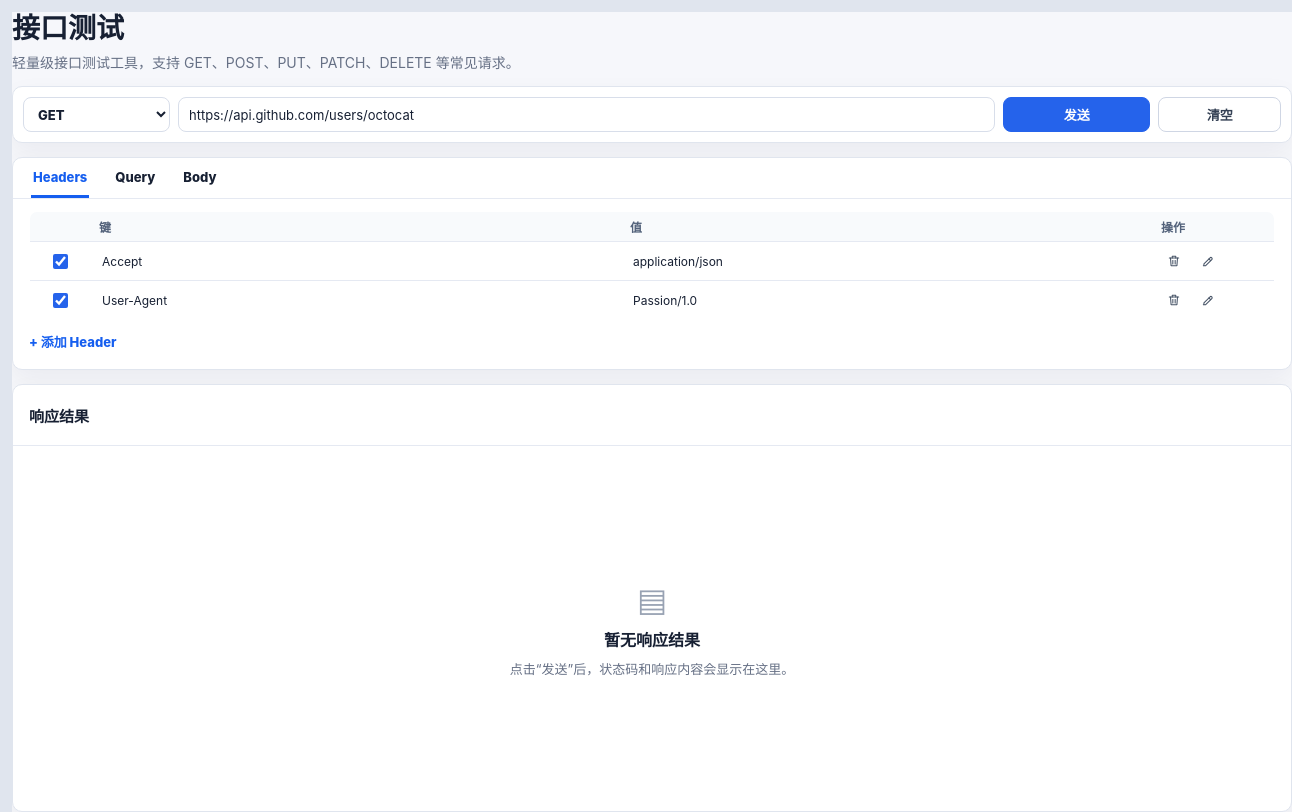
sends a request and shows response metadata
Click the button "发送".
click(1077, 115)  # box [1003,97,1150,132]
(page scrolled)
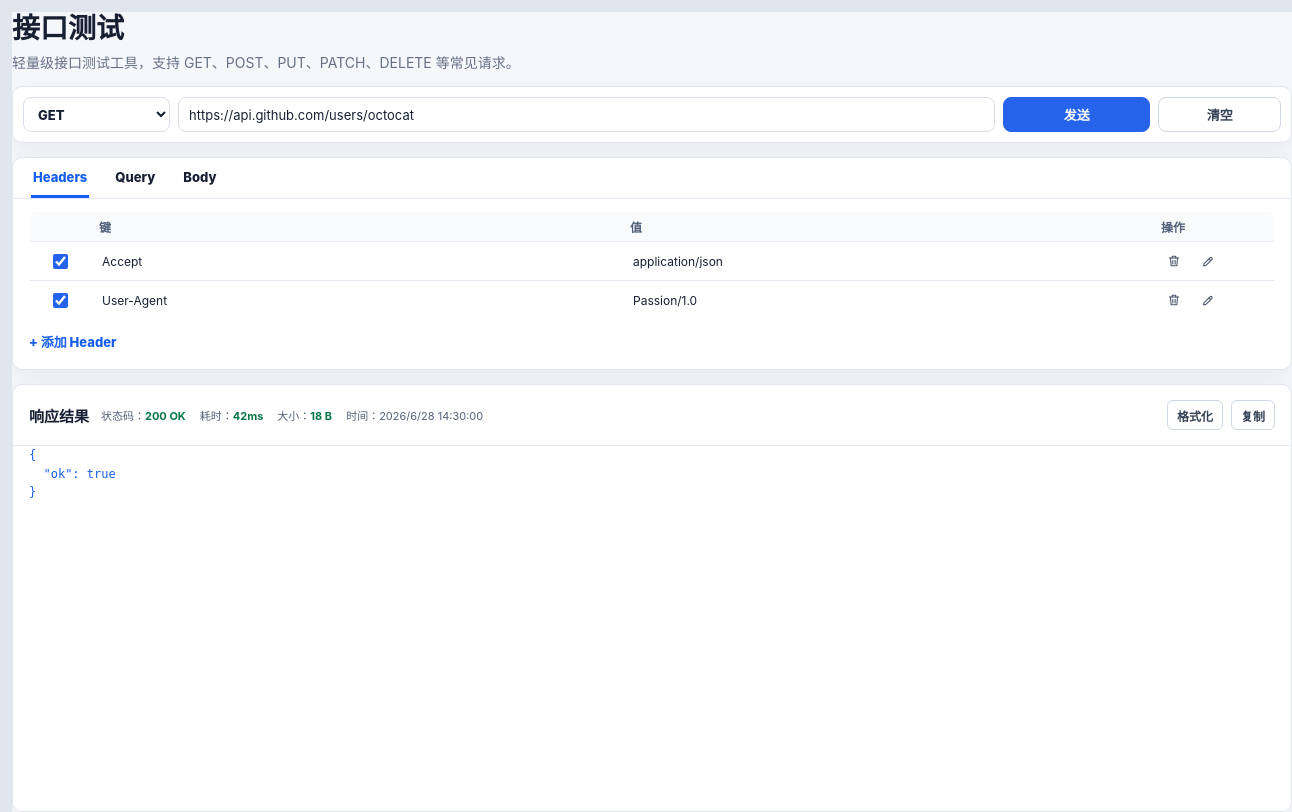
Now the text "200 OK" is shown, box [145,409,186,423]
Now the text "42ms" is shown, box [233,409,263,423]
Now the text "18 B" is shown, box [310,409,332,423]
